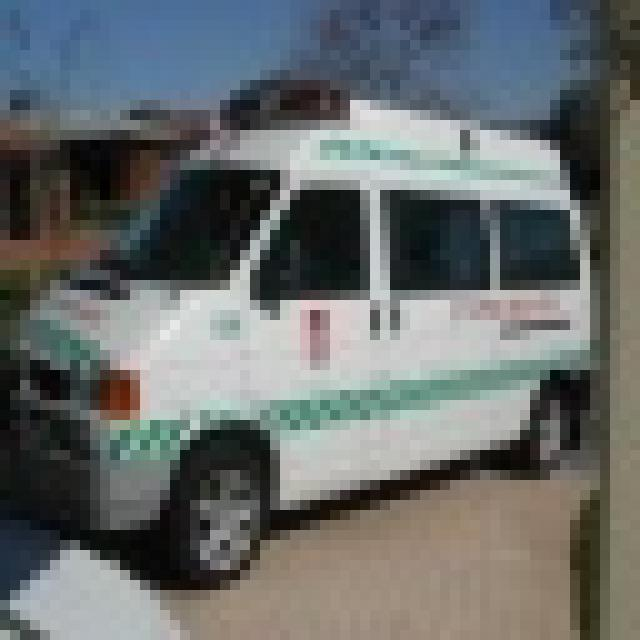Ambulance: (0, 70, 590, 580)
